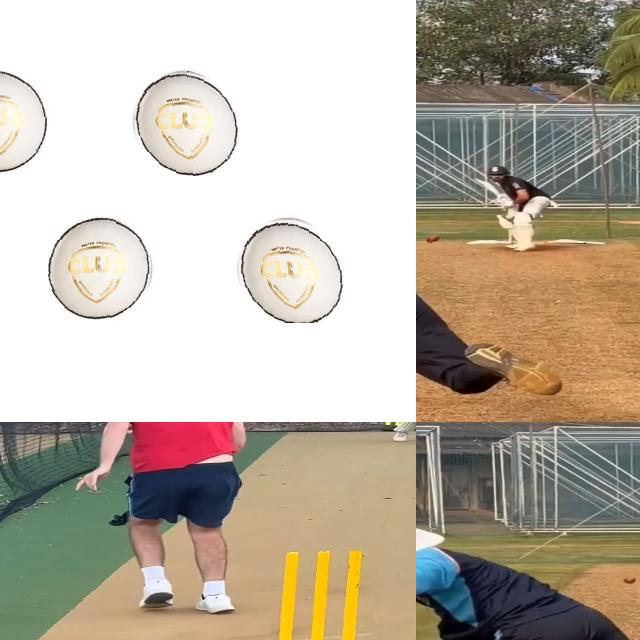Cricket ball: (230, 212, 344, 323), (127, 68, 239, 176), (48, 215, 157, 322), (0, 66, 51, 178), (426, 235, 441, 244), (624, 576, 636, 584)
Stumps: (271, 550, 380, 640)
